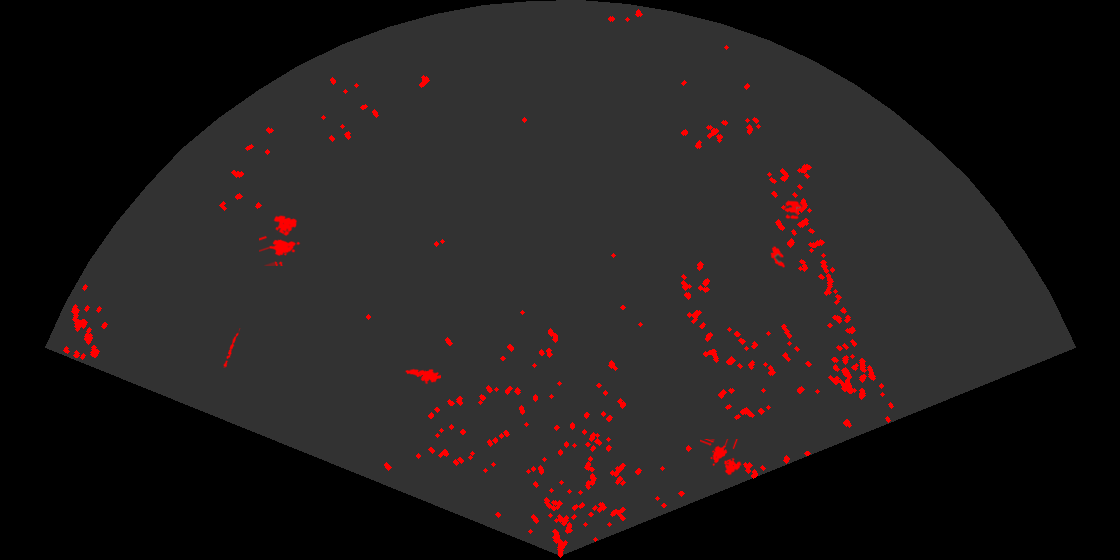AUV: (769, 244, 787, 269)
ball: (783, 199, 803, 221)
cage: (259, 214, 302, 266), (700, 439, 743, 477)
chain: (222, 328, 241, 368)
frogman: (403, 367, 441, 386)
